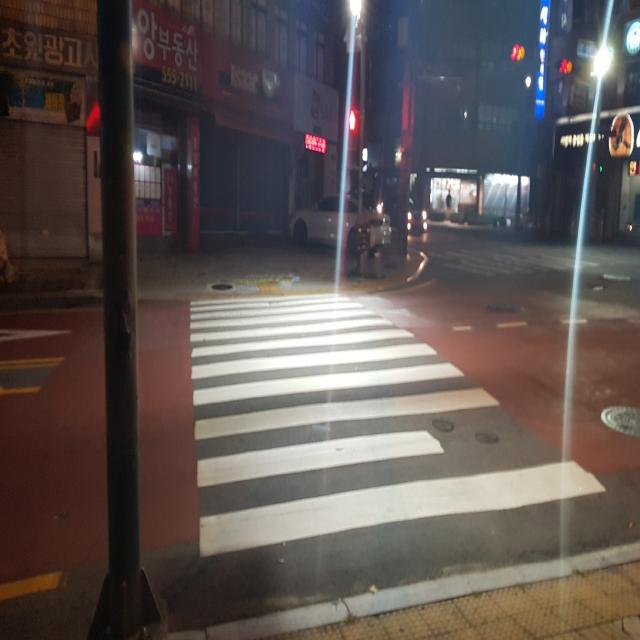횡단보도: (190, 294, 606, 557), (344, 111, 363, 151)
